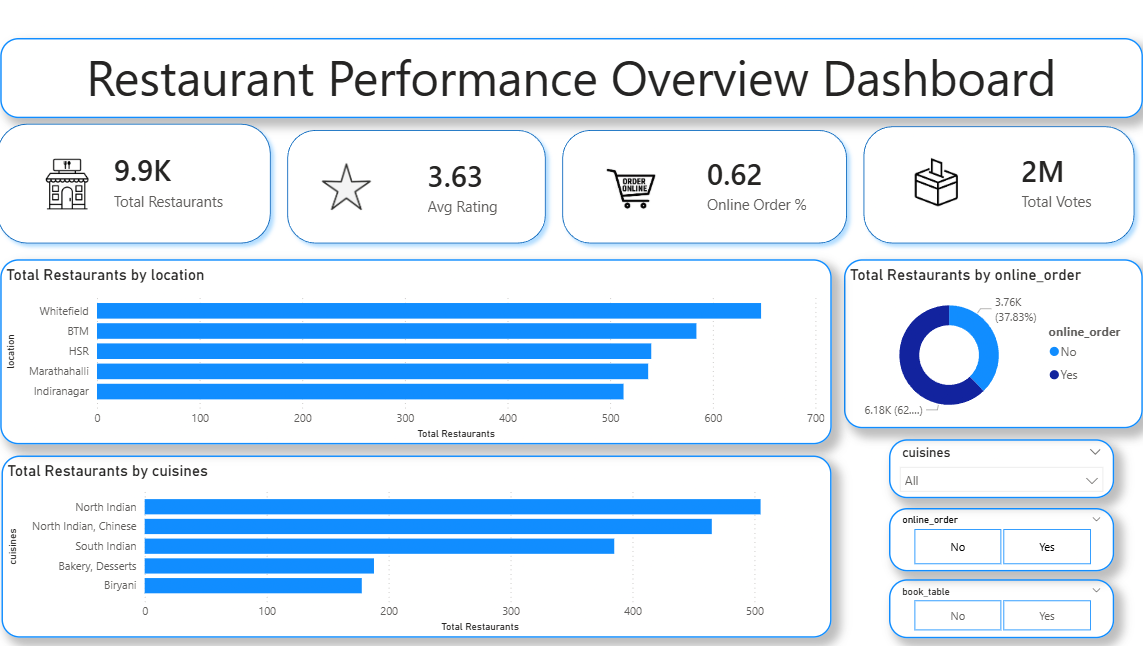

The dashboard page shown, as its layout file describes it:
{"tool":"powerbi","page":{"name":"Overview","canvas":[1280,720],"ordinal":0},"visuals":[{"type":"textbox","box":[12.3,49.4,1254.2,87.8],"z":0},{"type":"group","id":"g1","title":"Group 1","box":[318.4,141.3,301.9,142.7],"z":1000},{"type":"group","id":"g2","title":"Group 2","box":[0,134.5,318.4,149.6],"z":2000},{"type":"group","id":"g3","title":"Group 3","box":[620.2,141.3,330.7,142.7],"z":3000},{"type":"group","id":"g4","title":"Group 4","box":[950.9,137.2,315.6,146.8],"z":4000},{"type":"shape","box":[620.2,141.3,330.7,142.7],"z":4000,"group":"g3"},{"type":"shape","box":[0,134.5,318.4,149.6],"z":5000,"group":"g2"},{"type":"image","box":[644.3,163.8,121.6,98.3],"z":5000,"group":"g3"},{"type":"donutChart","fields":{"Y":["restaurants.Total Restaurants"],"Series":["restaurants.online_order"]},"box":[938.6,292.3,328,185.2],"z":5000},{"type":"shape","box":[950.9,137.2,315.6,146.8],"z":6000,"group":"g4"},{"type":"image","box":[37.3,170.2,97.8,79.6],"z":6000,"group":"g2"},{"type":"barChart","fields":{"Y":["restaurants.Total Restaurants"],"Category":["restaurants.location"]},"box":[12.3,292.3,912.5,203.1],"z":6000},{"type":"shape","box":[318.4,141.3,301.9,142.7],"z":7000,"group":"g1"},{"type":"image","box":[981.2,161.2,117.1,92.1],"z":7000,"group":"g4"},{"type":"barChart","fields":{"Category":["restaurants.cuisines"],"Y":["restaurants.Total Restaurants"]},"box":[13.7,507.7,911.2,200.3],"z":7000},{"type":"cardVisual","fields":{"Data":["restaurants.Online Order %"]},"box":[764.1,163,160.2,101],"z":8000,"group":"g3"},{"type":"image","box":[356.6,177.6,71.3,71.4],"z":8000,"group":"g1"},{"type":"slicer","fields":{"Values":["restaurants.cuisines"]},"box":[988,489.9,247,64.5],"z":8000},{"type":"cardVisual","fields":{"Data":["restaurants.Avg Rating"]},"box":[450.9,166,122.3,97.3],"z":8500,"group":"g1"},{"type":"cardVisual","fields":{"Data":["restaurants.Total Votes"]},"box":[1103.9,158.6,129.6,100.1],"z":8501,"group":"g4"},{"type":"slicer","fields":{"Values":["restaurants.online_order"]},"box":[988,565.4,247,70],"z":9000},{"type":"cardVisual","fields":{"Data":["restaurants.Total Restaurants"]},"box":[113.4,157.8,189.5,102.9],"z":9001,"group":"g2"},{"type":"slicer","fields":{"Values":["restaurants.book_table"]},"box":[988,643.6,247,64.5],"z":10000}]}

Visuals, with their boxes in screenshot pixels (x1, y1, x2, y2), scaled from the page's 1280x720 canvas onto the 1143x646 screenshot:
textbox: 11:44:1131:123
"Group 1" group: 284:127:554:255
"Group 2" group: 0:121:284:255
"Group 3" group: 554:127:849:255
"Group 4" group: 849:123:1131:255
shape: 554:127:849:255
shape: 0:121:284:255
image: 575:147:684:235
donutChart - restaurants.Total Restaurants x restaurants.online_order: 838:262:1131:428
shape: 849:123:1131:255
image: 33:153:121:224
barChart - restaurants.Total Restaurants x restaurants.location: 11:262:826:444
shape: 284:127:554:255
image: 876:145:981:227
barChart - restaurants.cuisines x restaurants.Total Restaurants: 12:456:826:635
cardVisual - restaurants.Online Order %: 682:146:825:237
image: 318:159:382:223
slicer - restaurants.cuisines: 882:440:1103:497
cardVisual - restaurants.Avg Rating: 403:149:512:236
cardVisual - restaurants.Total Votes: 986:142:1101:232
slicer - restaurants.online_order: 882:507:1103:570
cardVisual - restaurants.Total Restaurants: 101:142:270:234
slicer - restaurants.book_table: 882:577:1103:635
